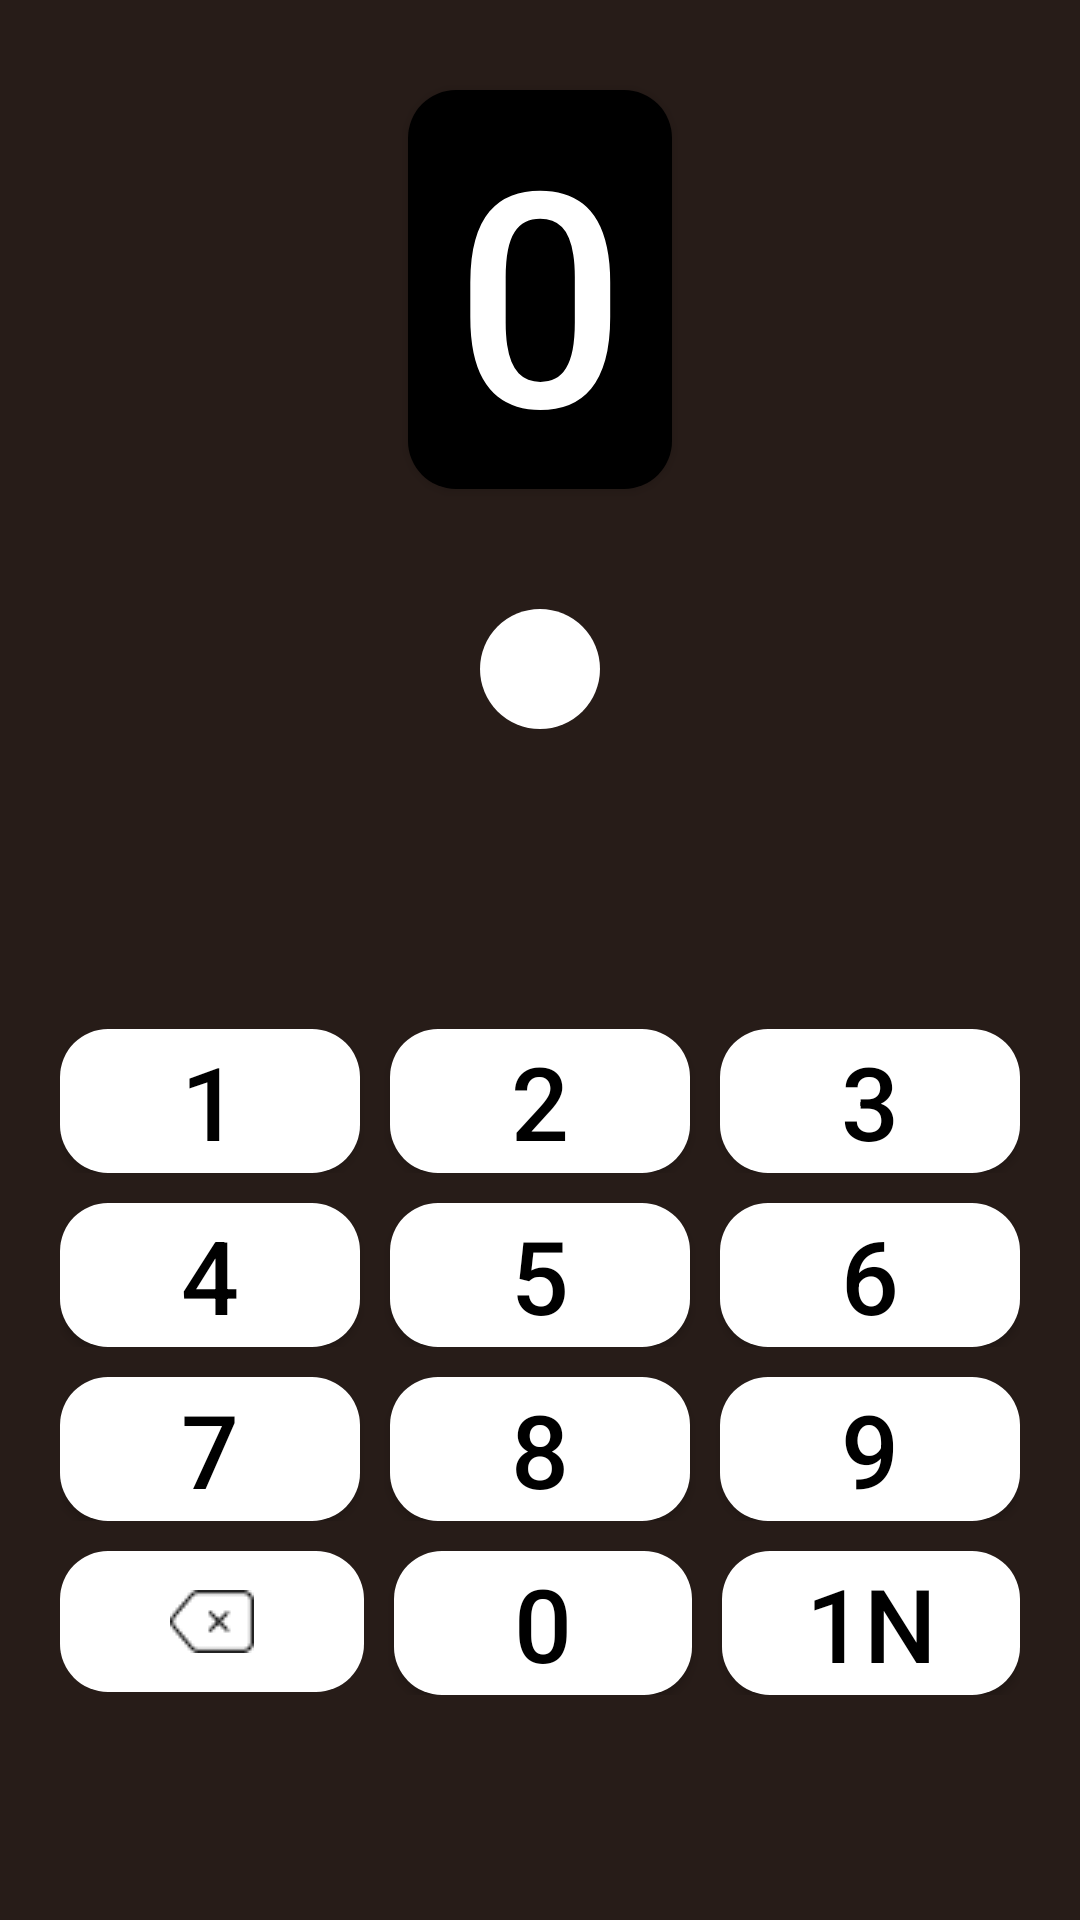

Screen size 1080 × 1920. Icon name, then its center in pixels as [x,y]:
back space: [212,1621]
